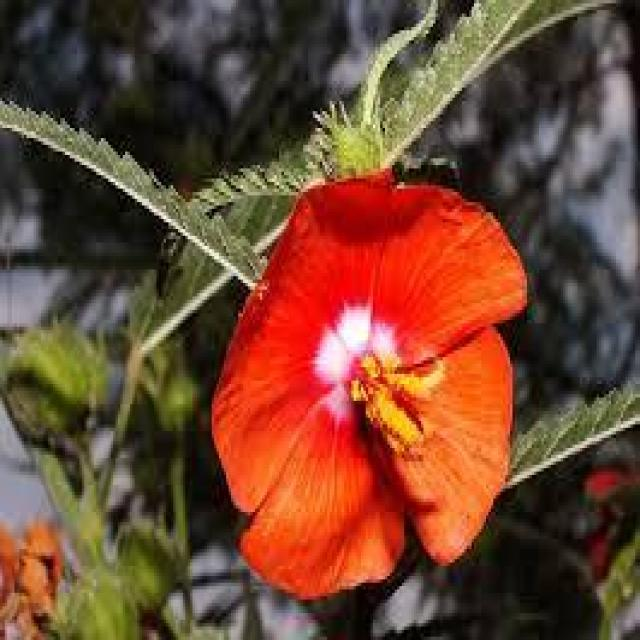organic waste: (212, 167, 539, 588)
